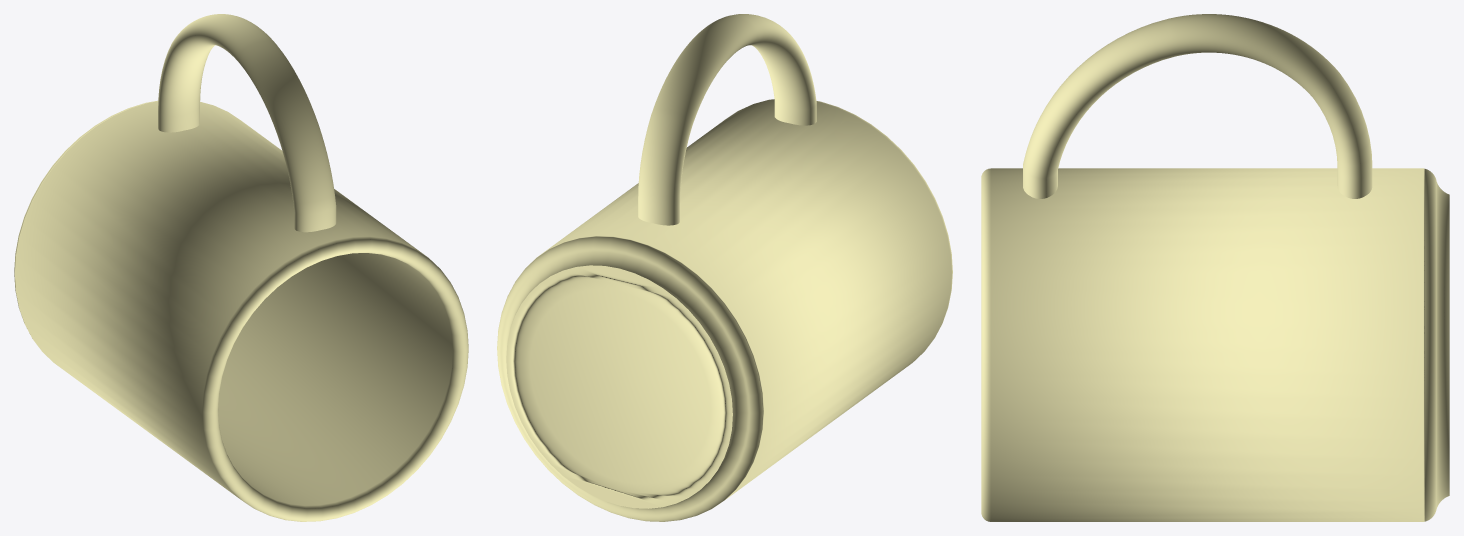
The model's file is model_scale.obj.
3 views of the same model, side by side, from view 1: azimuth 30°, elevation 25°; view 2: azimuth 150°, elevation 25°; view 3: azimuth 270°, elevation 25° (orthographic). The views are drawn at different scales.
Parts seen in each view (by area): view 1: mesh1_mesh1-geometry, mesh4_mesh4-geometry; view 2: mesh1_mesh1-geometry, mesh4_mesh4-geometry; view 3: mesh1_mesh1-geometry, mesh4_mesh4-geometry.
Boxes of the visible parts, x1,y1,x2,y2 form: mesh1_mesh1-geometry: [14, 100, 468, 521]; mesh4_mesh4-geometry: [158, 14, 336, 232]; mesh1_mesh1-geometry: [497, 99, 952, 521]; mesh4_mesh4-geometry: [638, 14, 816, 225]; mesh1_mesh1-geometry: [981, 168, 1449, 521]; mesh4_mesh4-geometry: [1023, 14, 1372, 198].
Size of the model in its own units: 0.0716 by 0.1092 by 0.0949.
